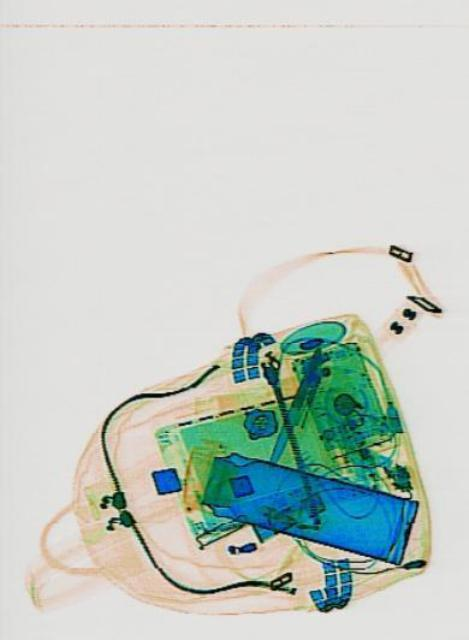Knife: (261, 345, 323, 471)
